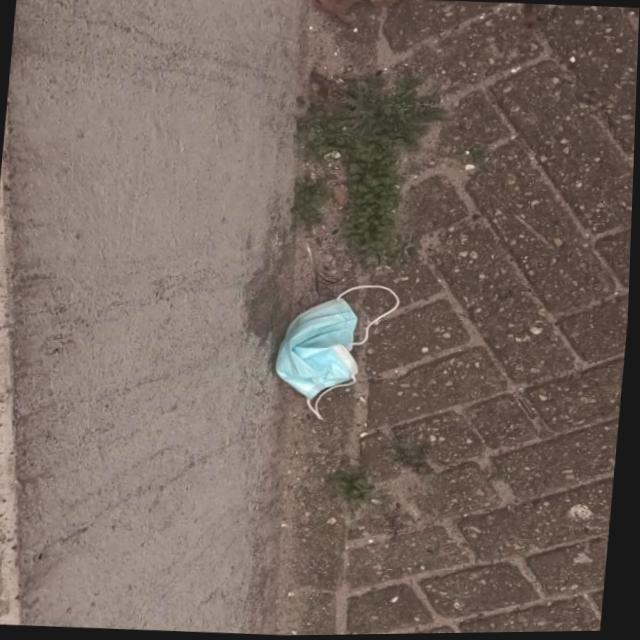Mask: (274, 298, 383, 418)
